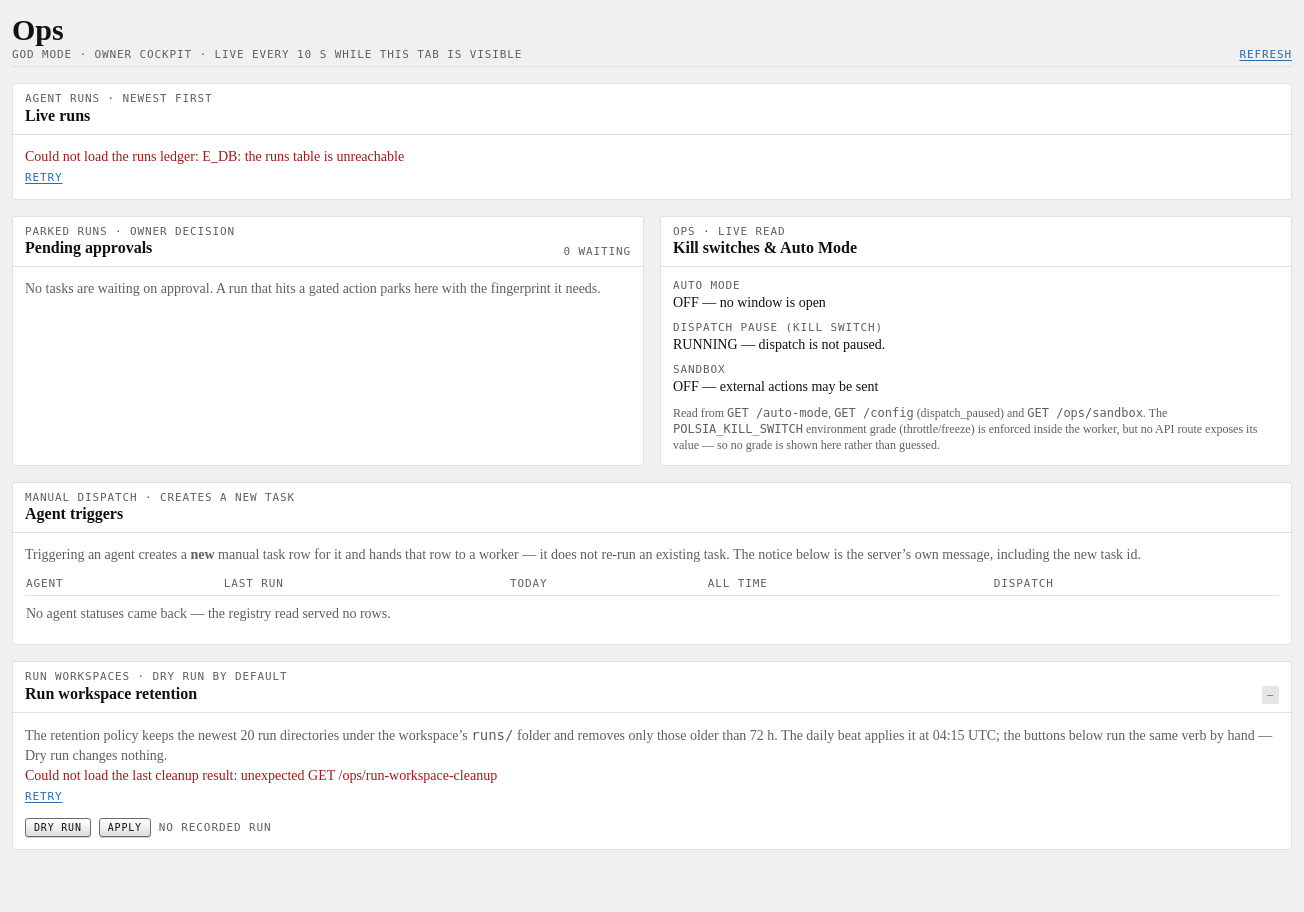
/ops — the live runs cockpit › names a failed ledger read and Retry re-issues exactly that read
Expected: the text "Could not load the runs ledger: E_DB: the runs table is unreachable" is shown, [25, 148, 404, 164]
Click the button with test id "ops-runs-retry". click: coordinates (44, 177)
box: [25, 170, 62, 184]
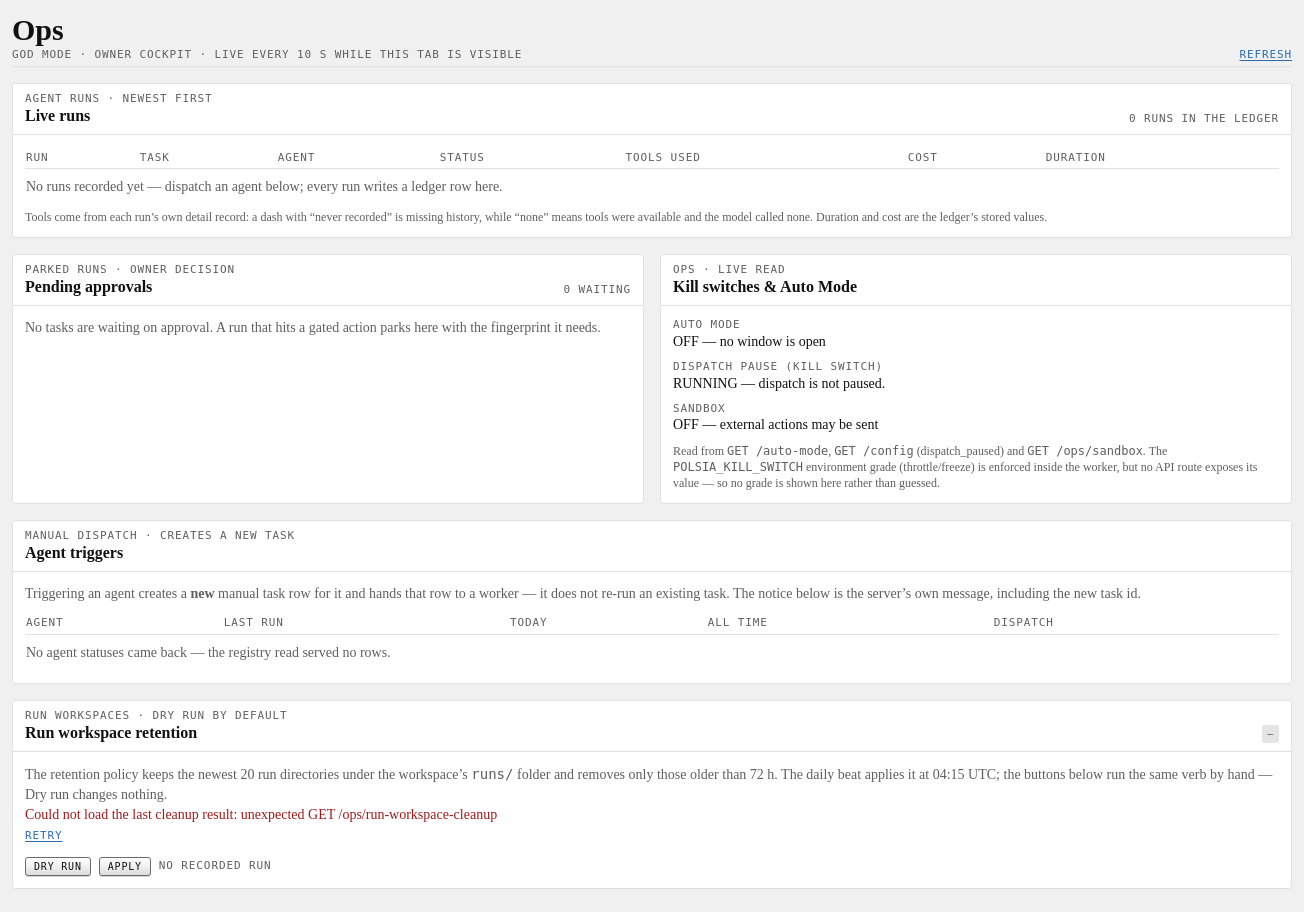
Now the text "No runs recorded yet" is shown, box [26, 179, 503, 194]
